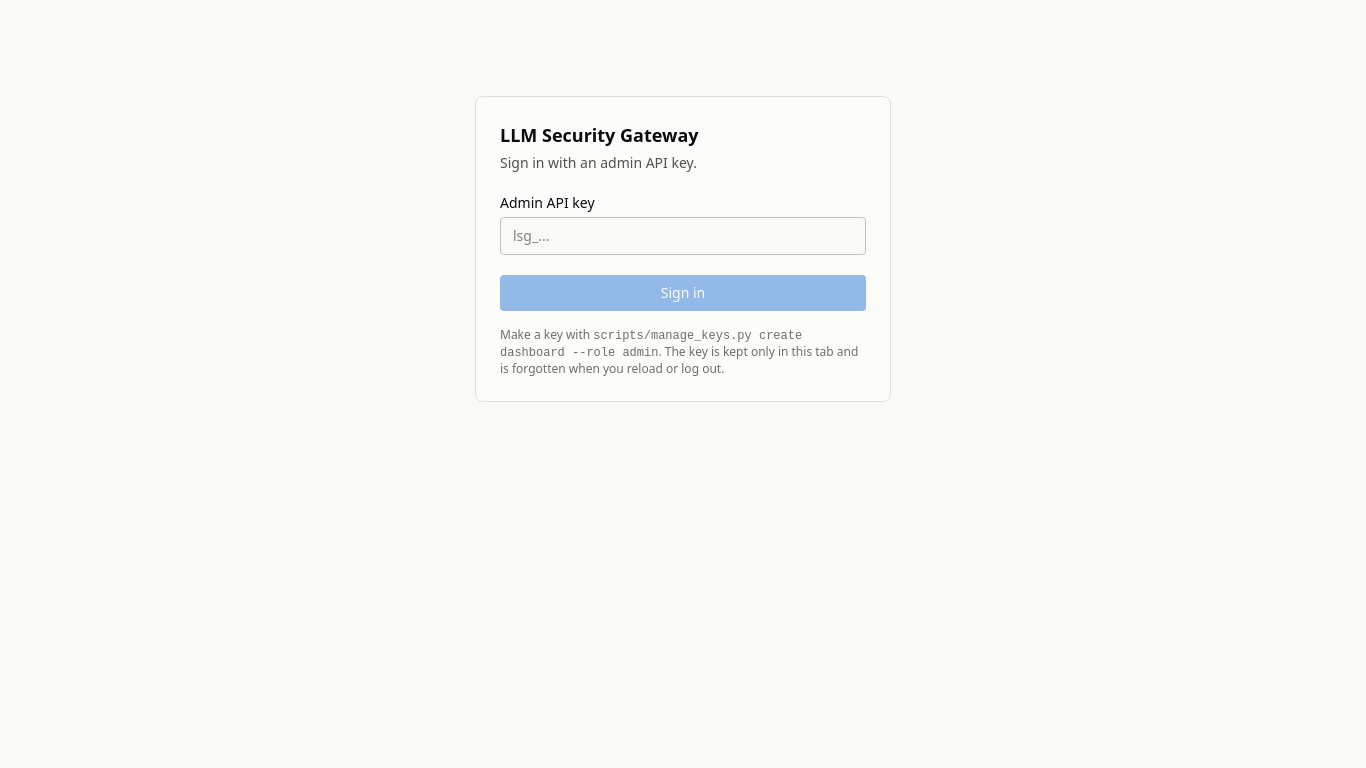
Scenario: signing in › forgets the key when logging out
This screenshot has width=1366, height=768.
Later steps or results of the test are not shown.
In the password field labelled "Admin API key": (683, 236) [500,217,866,255], type "lsg_test-admin-key"
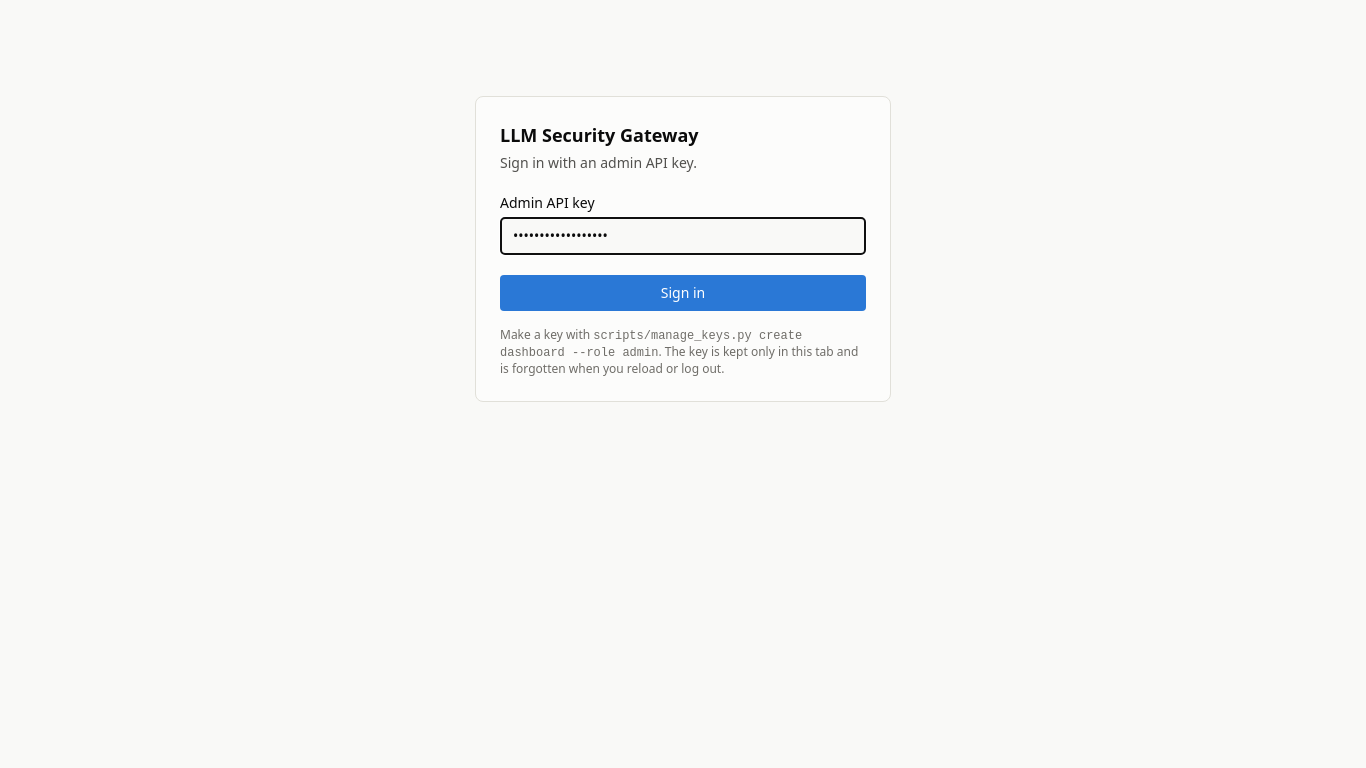
Click the button "Sign in": (683, 293) [500,275,866,311]
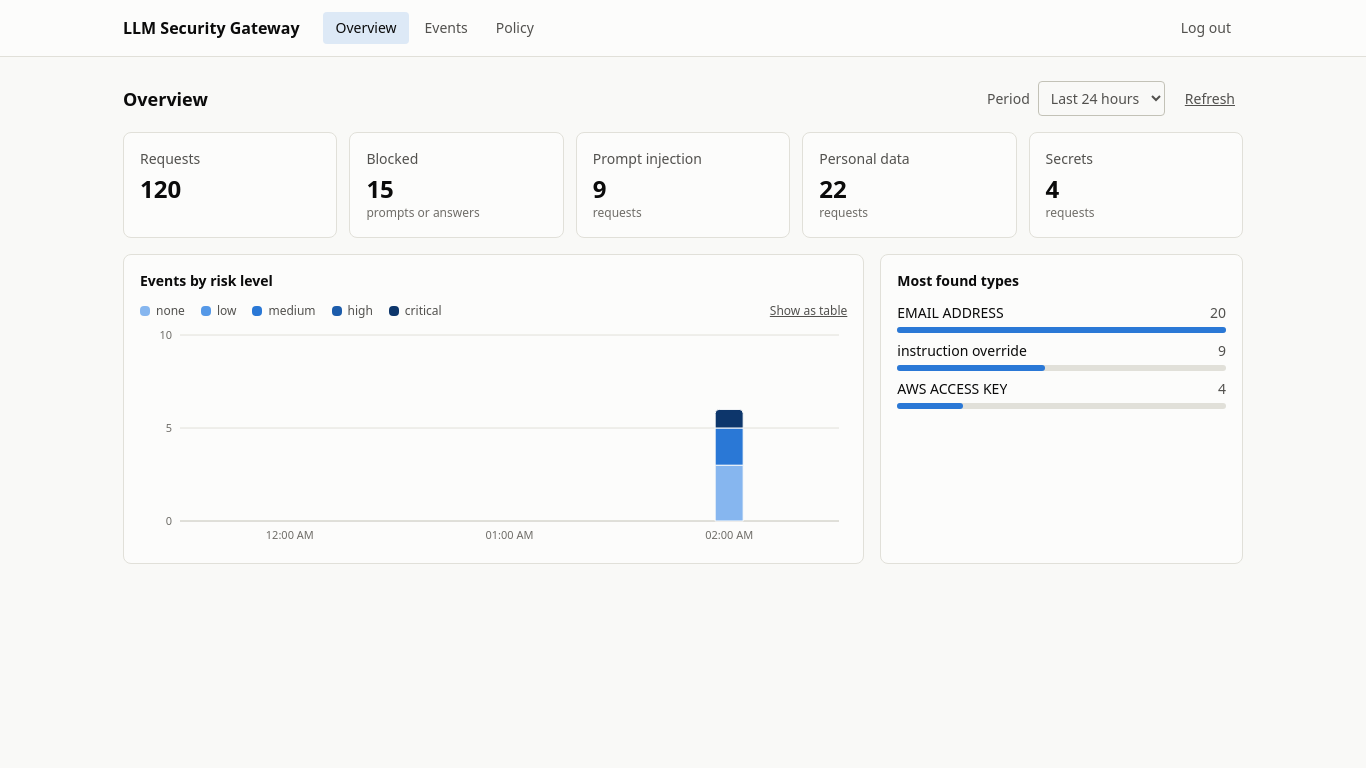
Now the heading "Overview" is shown, box [123,84,208,112]
Click the button "Log out": (1206, 28) [1169,12,1243,44]
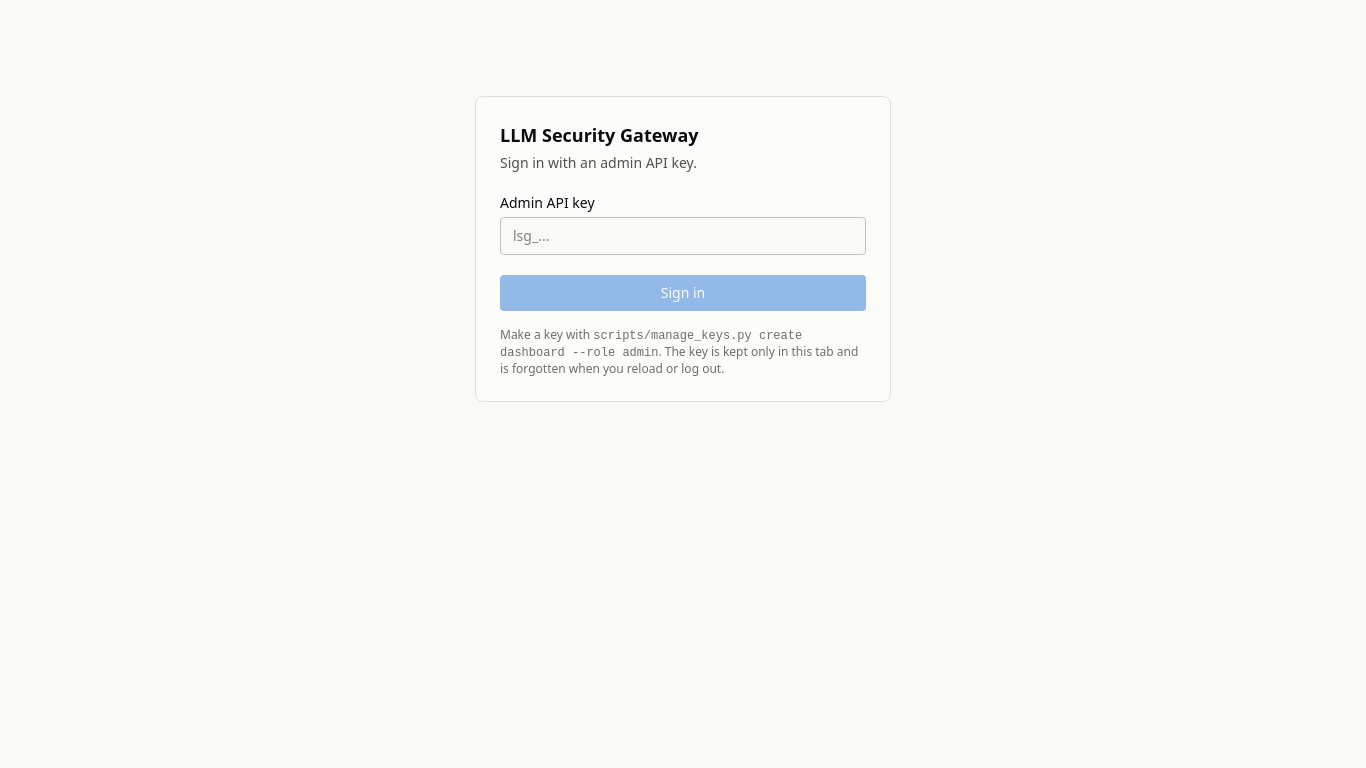
Now the password field labelled "Admin API key" is empty, box [500,217,866,255]
